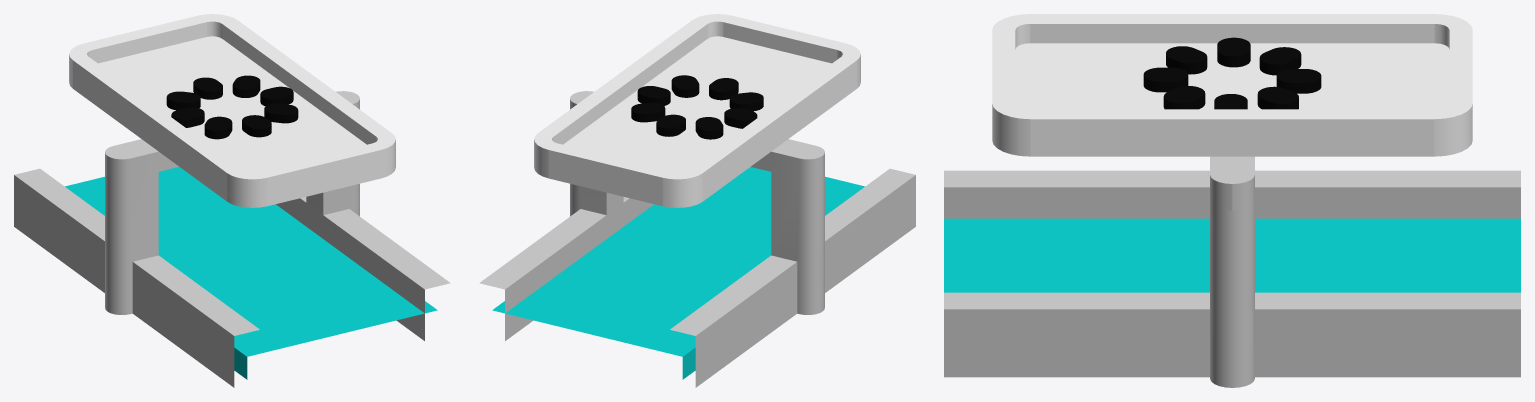
File: BeltReaderDefaultInternalVariant.gltf
The picture shows the model from 3 angles, left to right: view 1: azimuth 30°, elevation 25°; view 2: azimuth 150°, elevation 25°; view 3: azimuth 270°, elevation 25°; orthographic projection. The views are drawn at different scales.
Parts seen in each view (by area): view 1: BeltReader, BeltReaderPlattform, BeltReaderLoading; view 2: BeltReader, BeltReaderPlattform, BeltReaderLoading; view 3: BeltReader, BeltReaderPlattform, BeltReaderLoading.
Part boxes in pixels (x1,y1,x2,y2): BeltReader: (14, 91, 450, 387); BeltReaderPlattform: (69, 14, 395, 207); BeltReaderLoading: (166, 75, 298, 139); BeltReader: (479, 91, 915, 387); BeltReaderPlattform: (534, 14, 860, 207); BeltReaderLoading: (631, 75, 763, 139); BeltReader: (944, 156, 1520, 387); BeltReaderPlattform: (992, 14, 1472, 156); BeltReaderLoading: (1143, 37, 1321, 109).
Bounding box in the file's own units: 0.6568 × 0.4617 × 1.
